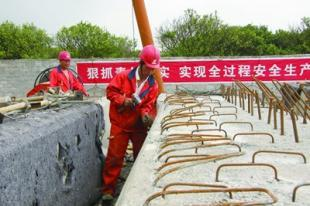boots: (101, 193, 113, 200)
gloves: (141, 114, 153, 128), (123, 98, 135, 110)
hard-hat: (139, 44, 160, 68), (58, 50, 70, 61)
person: (100, 44, 164, 200), (47, 50, 89, 96)
ppe-suit: (100, 65, 159, 194), (47, 65, 89, 96)
